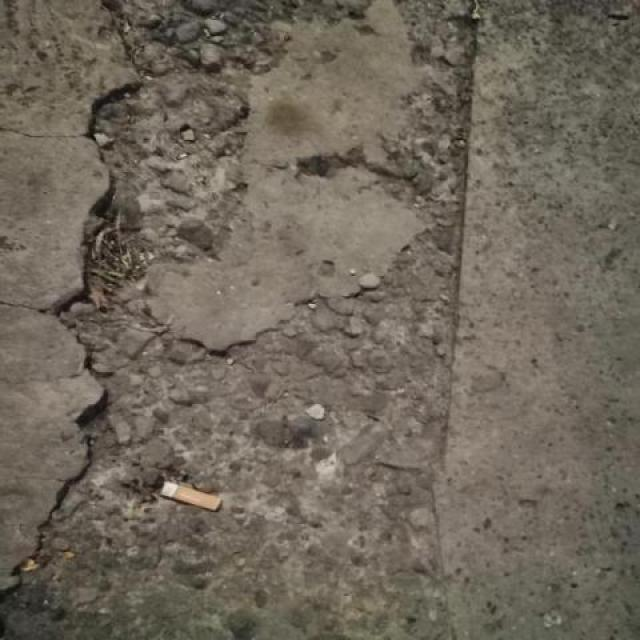non-organic waste: (155, 476, 225, 516)
